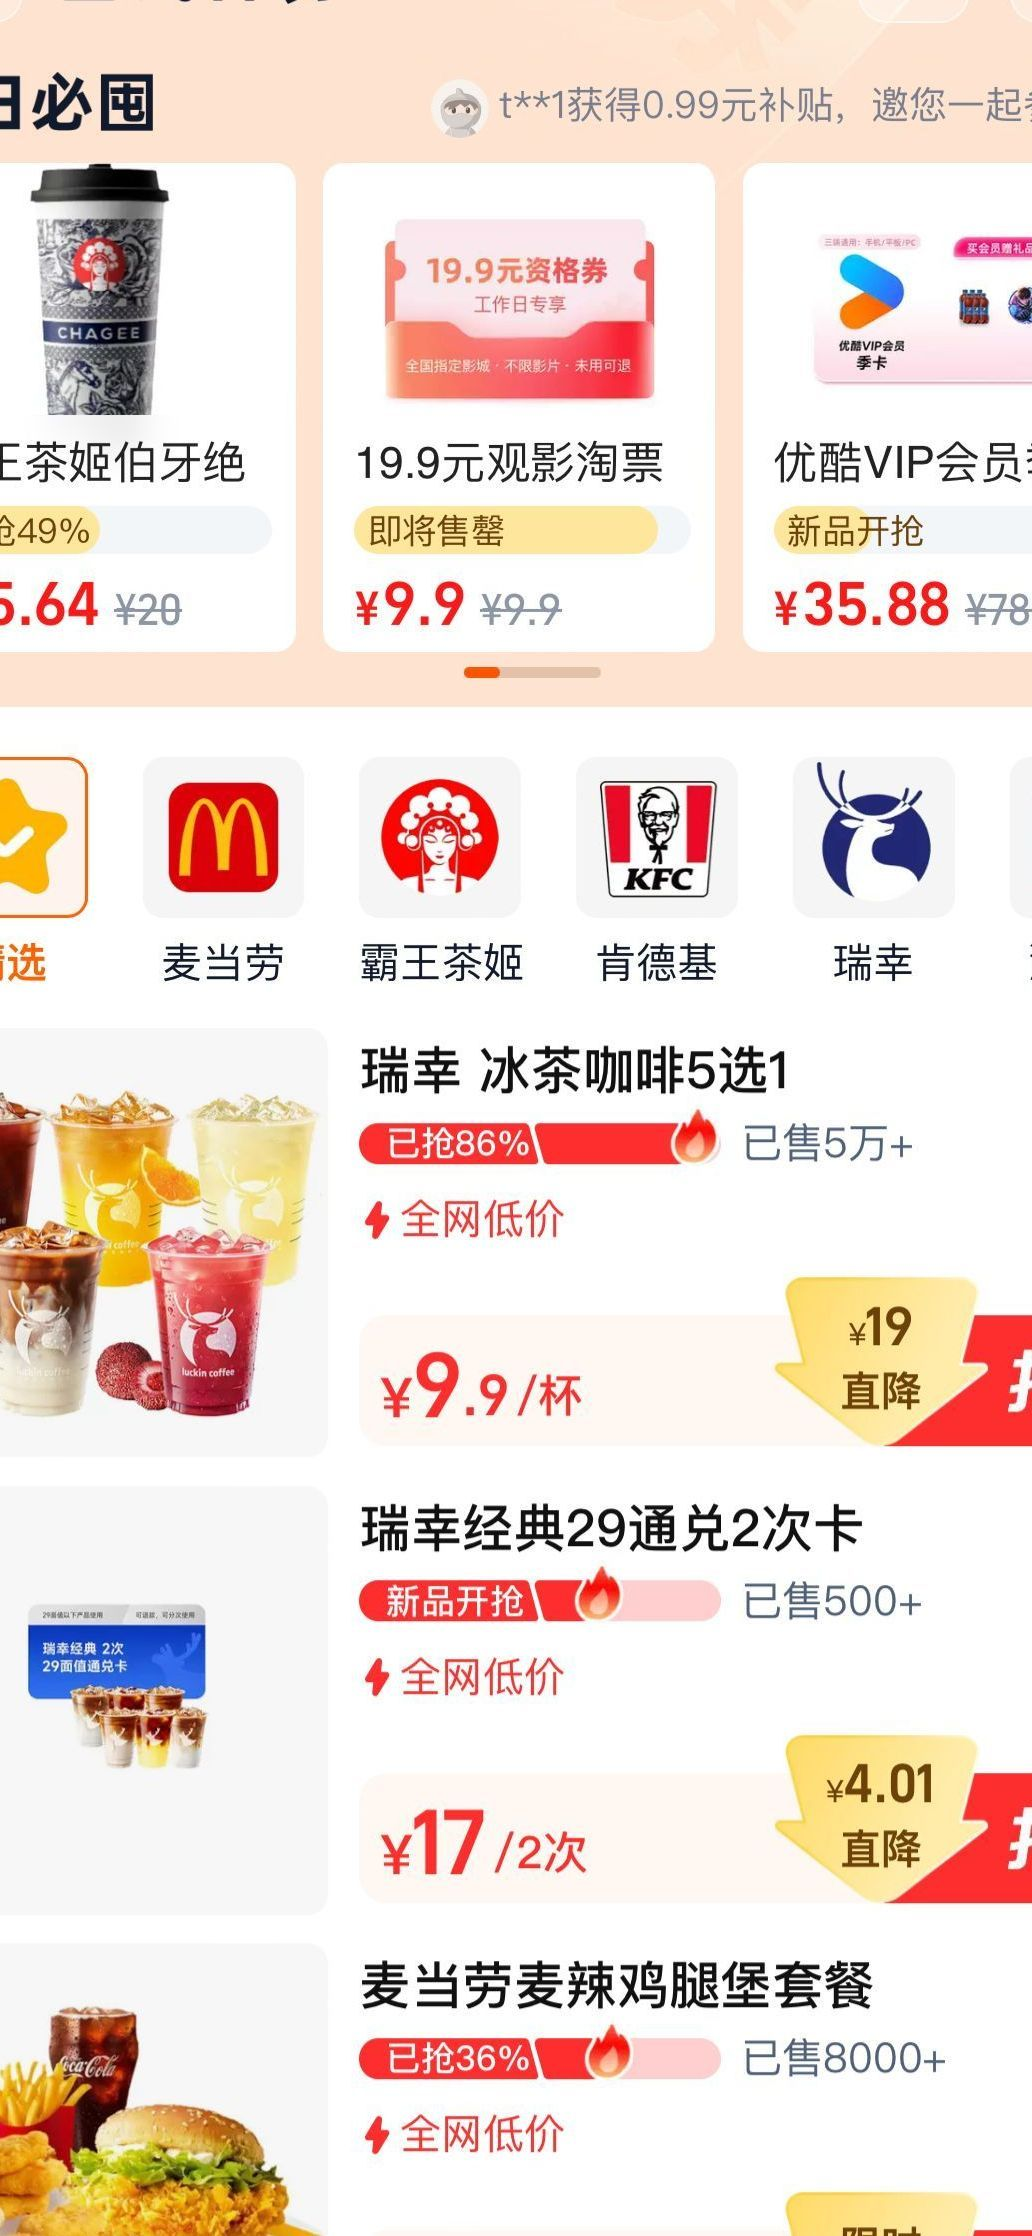item: (7, 1020, 1029, 1484), (4, 1492, 1026, 1934)
seckill: (7, 154, 1032, 684)
